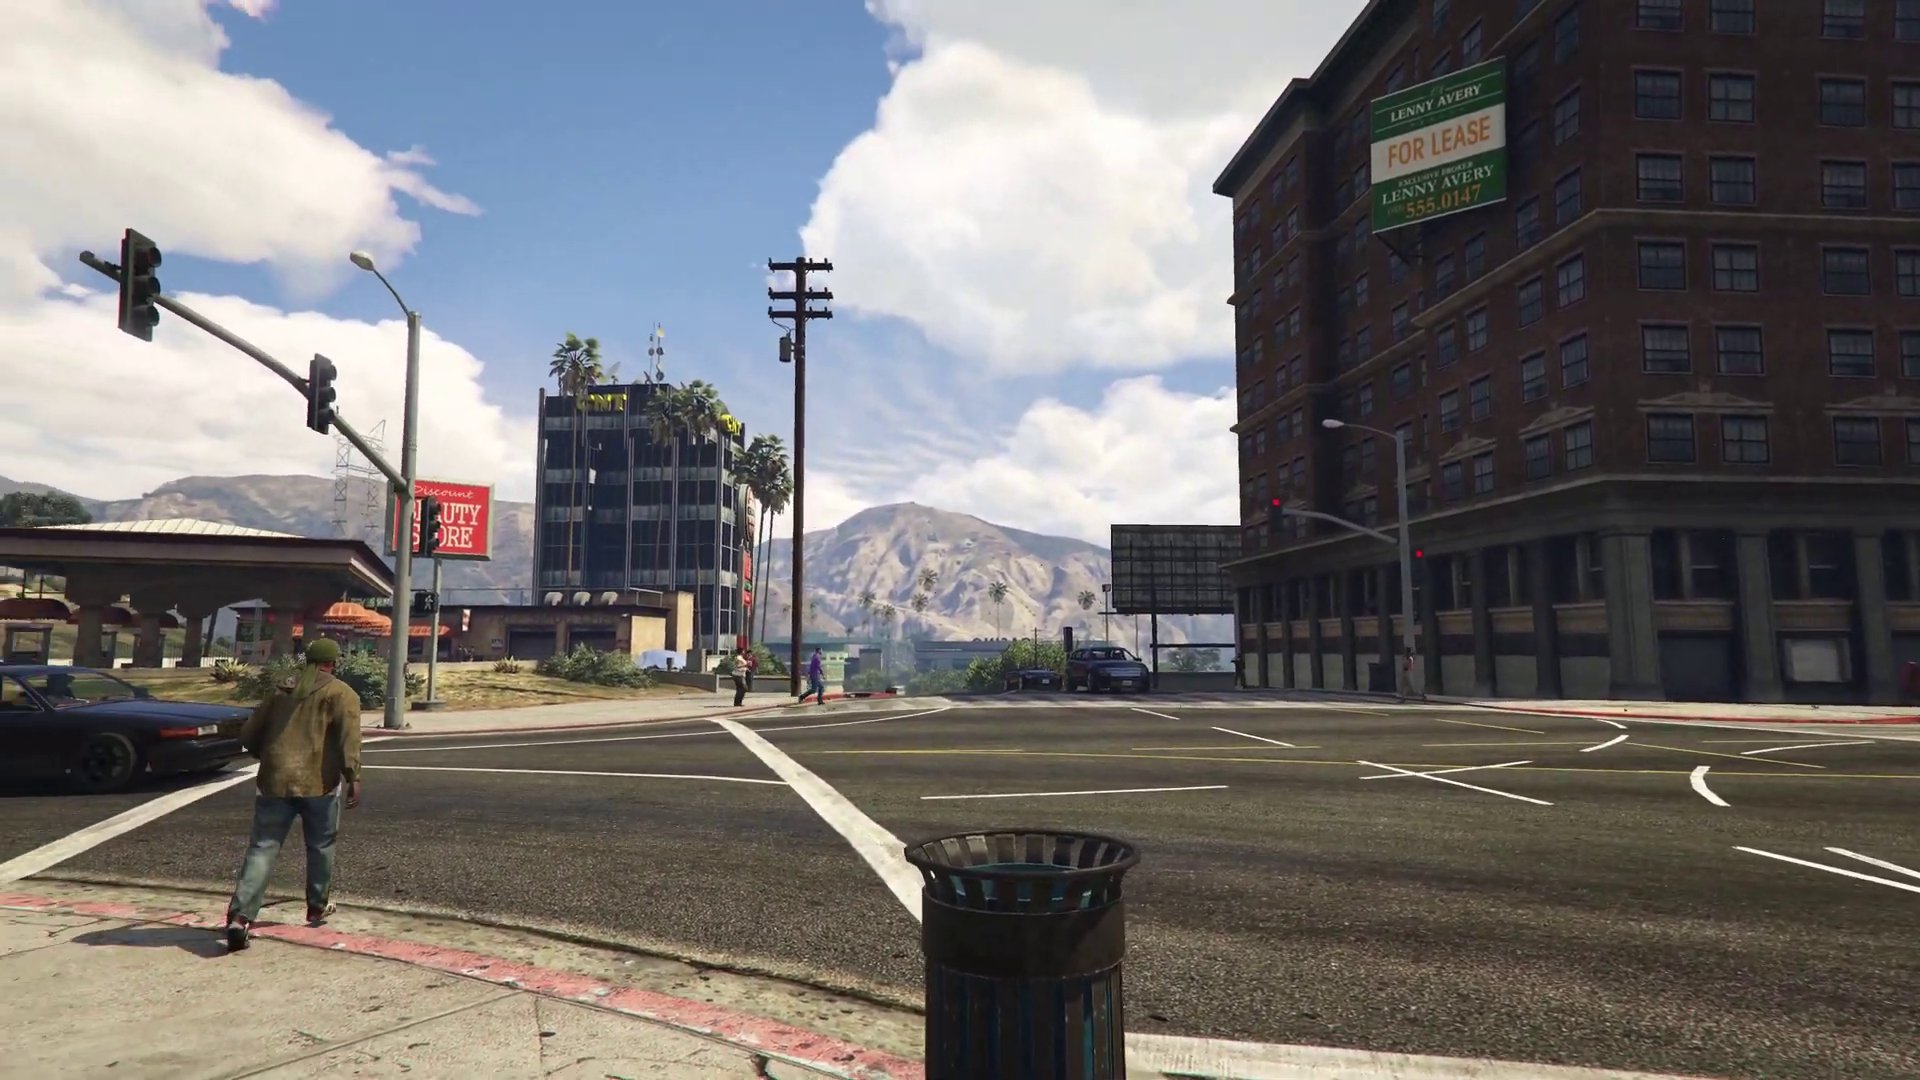car: (1, 664, 253, 791), (1067, 646, 1150, 694), (1004, 666, 1063, 691)
person: (225, 635, 364, 949), (799, 646, 826, 707), (733, 648, 745, 705), (743, 649, 756, 689)
traffic light: (119, 229, 160, 341), (309, 354, 332, 436), (418, 496, 440, 556), (414, 589, 438, 613), (1268, 494, 1282, 530), (1412, 547, 1425, 579)
